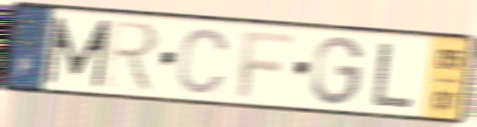C: (175, 25, 233, 97)
F: (236, 29, 297, 100)
G: (309, 34, 367, 107)
L: (369, 40, 417, 110)
M: (44, 14, 113, 90)
R: (100, 17, 162, 96)
